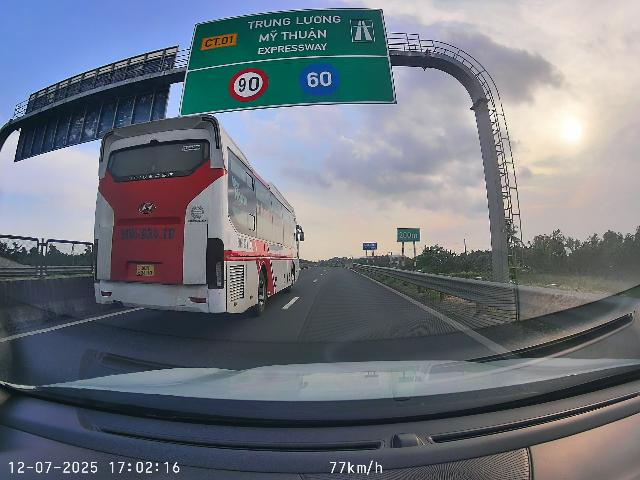127-toc-do-toi-da-90: (228, 67, 269, 102)
306-toc-do-toi-thieu-60: (298, 62, 341, 97)
437-bat-dau-duong-cao-toc: (350, 19, 375, 43)
